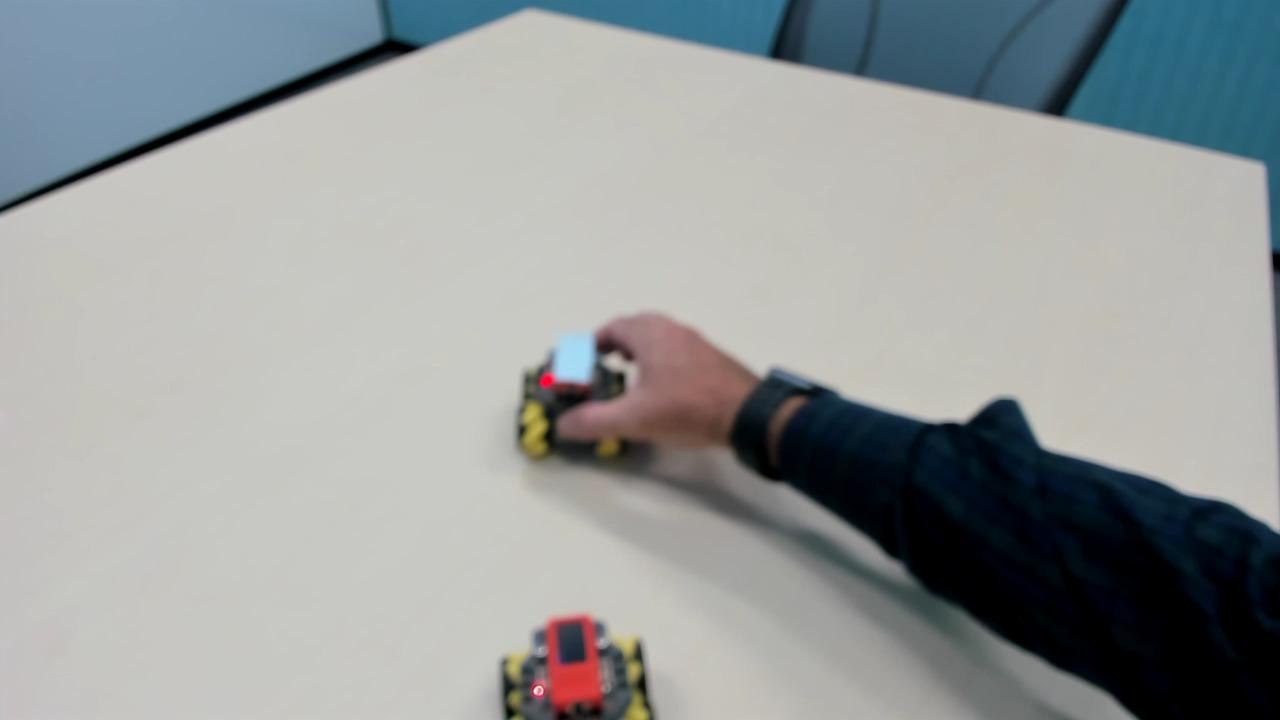B-Robot: (500, 326, 656, 494)
R-Robot: (476, 610, 678, 720)
